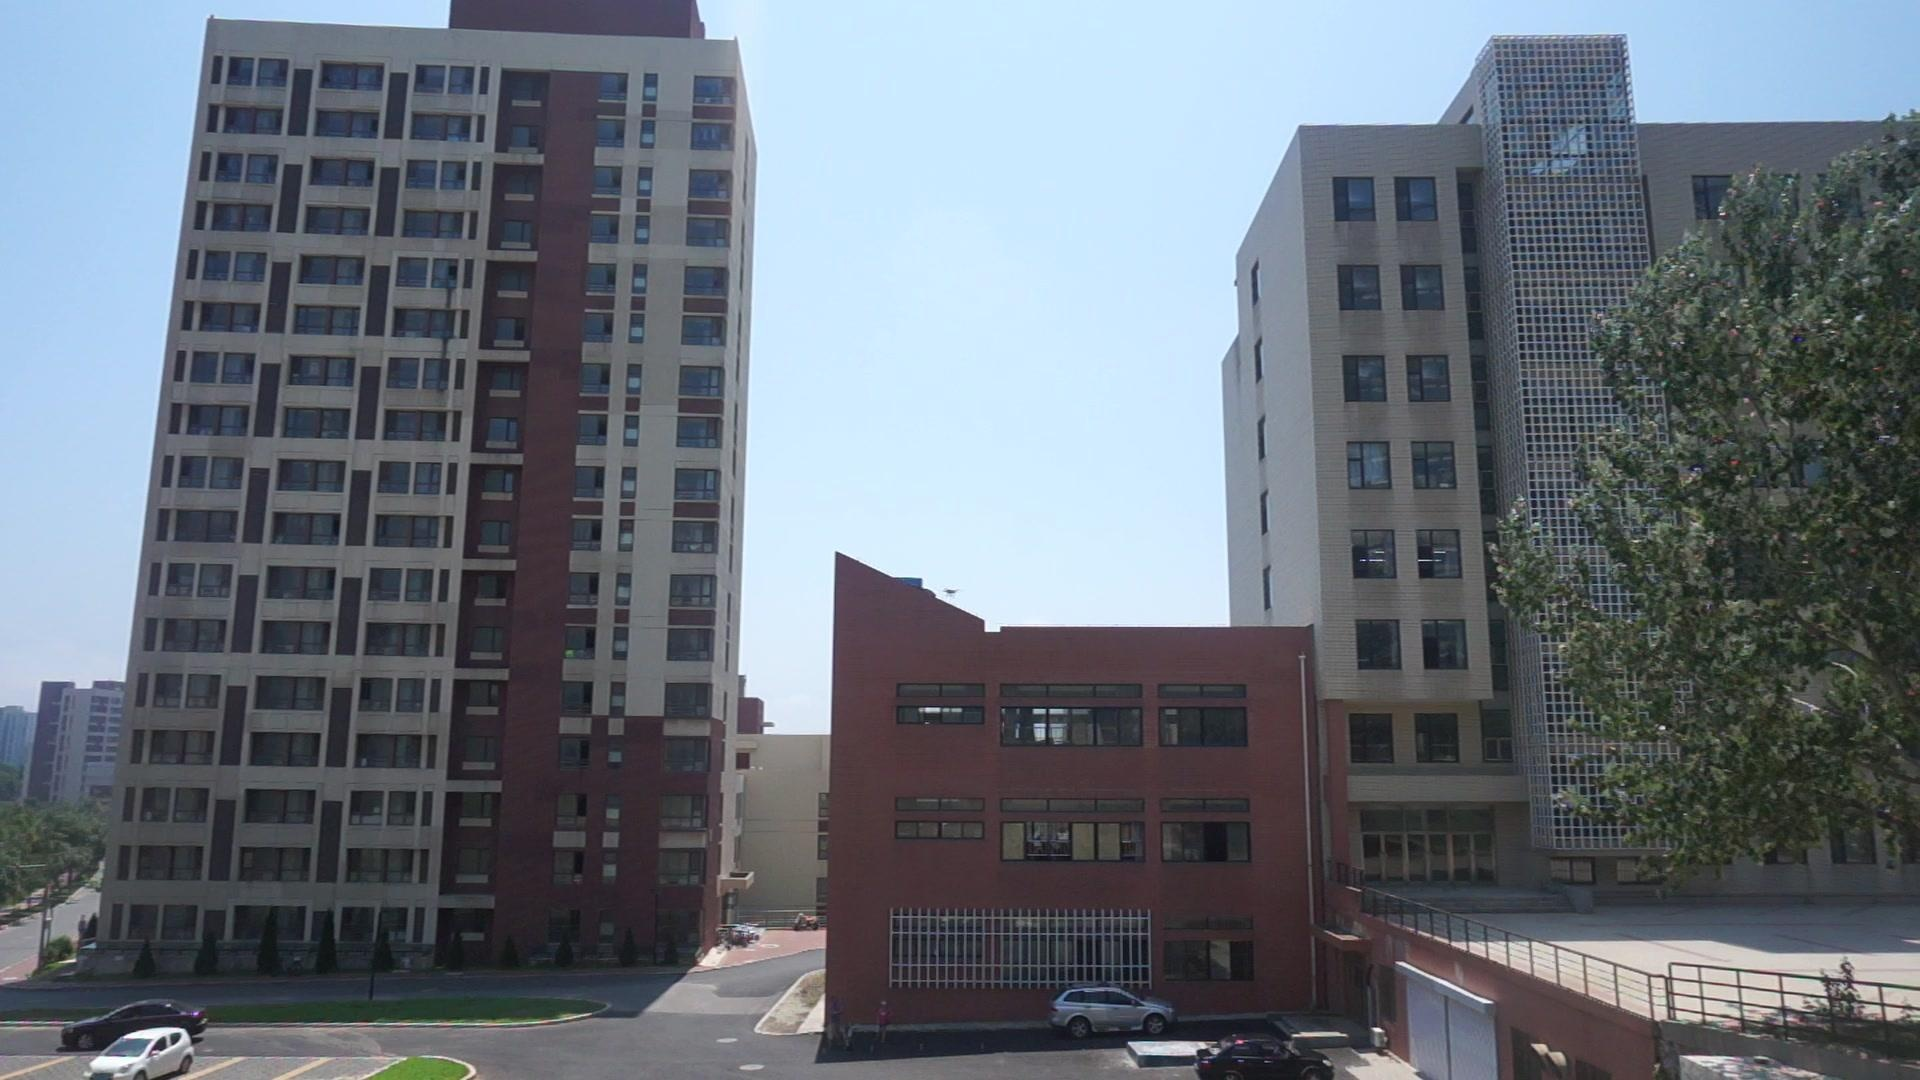UAV: (942, 589, 963, 599)
